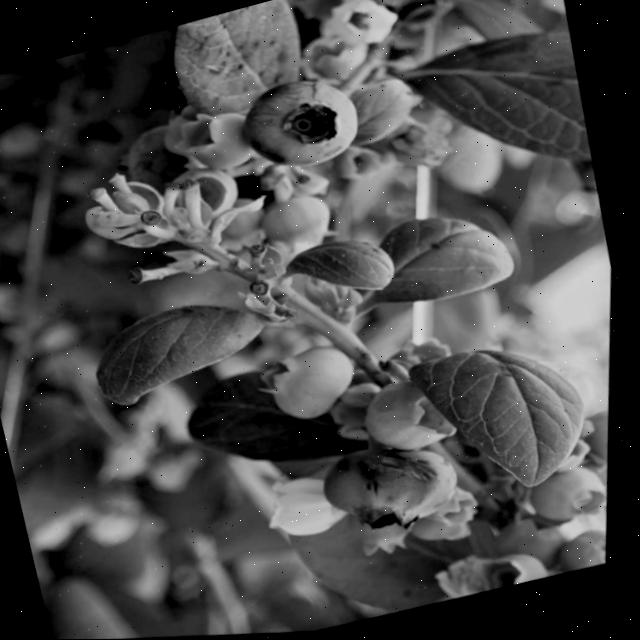RipeBlueBerry: (310, 418, 488, 563), (222, 53, 388, 198), (103, 112, 209, 219)
UnripeBlueBerry: (250, 325, 379, 442)
